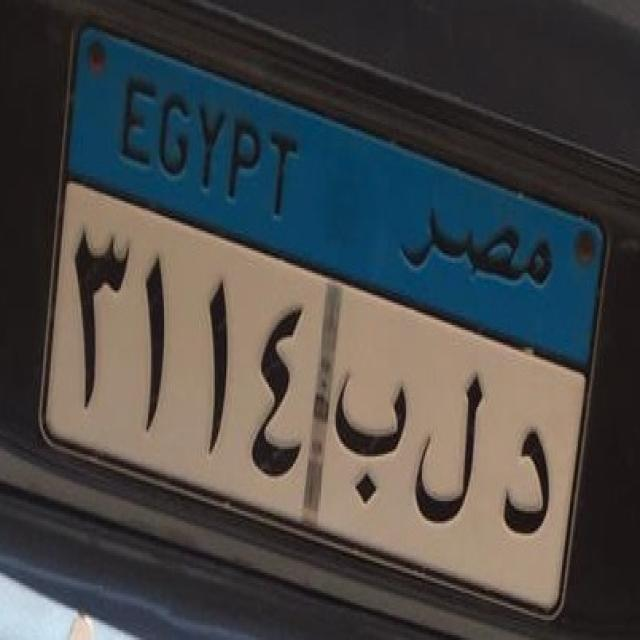1: (125, 247, 185, 433), (186, 272, 244, 457)
3: (56, 216, 138, 417)
4: (245, 289, 310, 483)
Laam: (408, 356, 493, 535)
baa: (326, 348, 416, 515)
daal: (494, 408, 562, 550)
